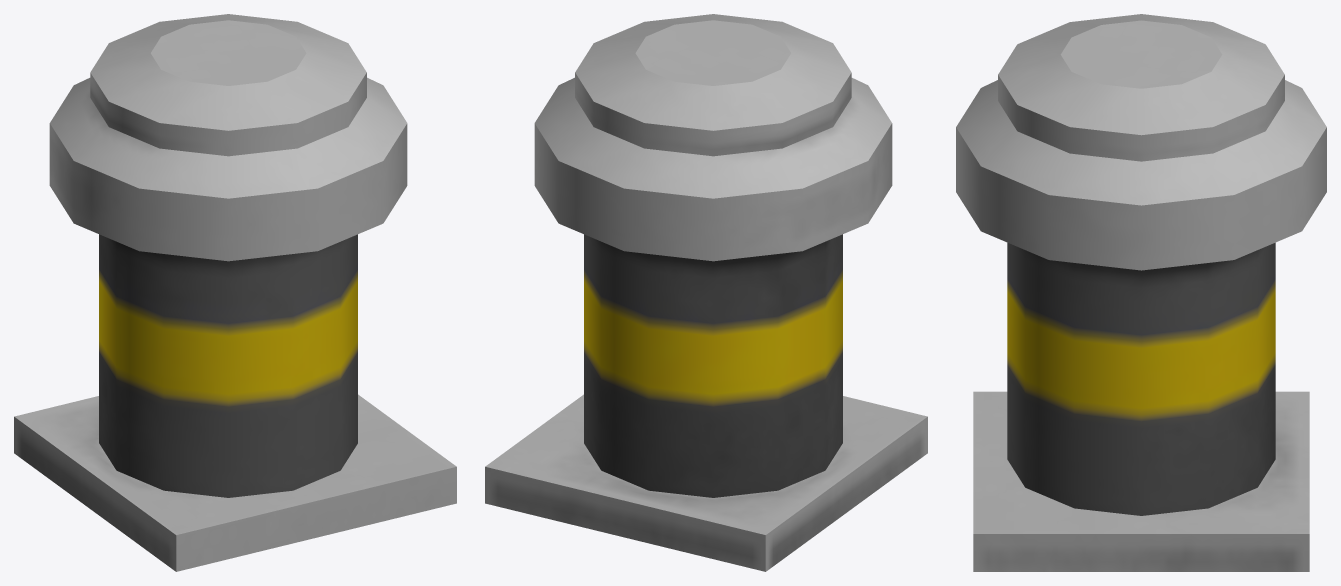
File: Pfb_Ventilation_Soda3.fbx
3 views of the same model, side by side, from view 1: azimuth 30°, elevation 25°; view 2: azimuth 150°, elevation 25°; view 3: azimuth 270°, elevation 25° (orthographic). The views are drawn at different scales.
Visible parts, largest first — view 1: Mat_Ventilation_Soda; view 2: Mat_Ventilation_Soda; view 3: Mat_Ventilation_Soda.
Part boxes in pixels (bbox=[...]): Mat_Ventilation_Soda: bbox=[14, 14, 456, 571]; Mat_Ventilation_Soda: bbox=[485, 14, 927, 571]; Mat_Ventilation_Soda: bbox=[956, 14, 1326, 571].
Size of the model in its own units: 0.5772 by 0.7603 by 0.5772.
Materials: 1 (1 with a texture image).
